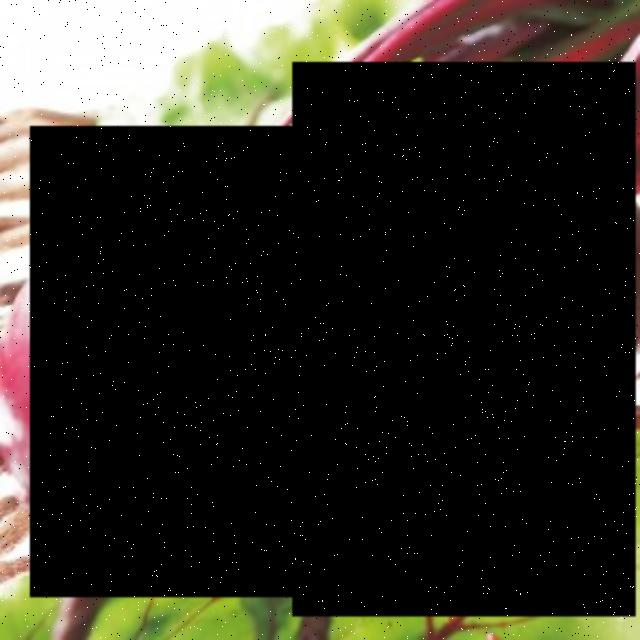Beetroot: (293, 63, 636, 618), (31, 126, 338, 598)
